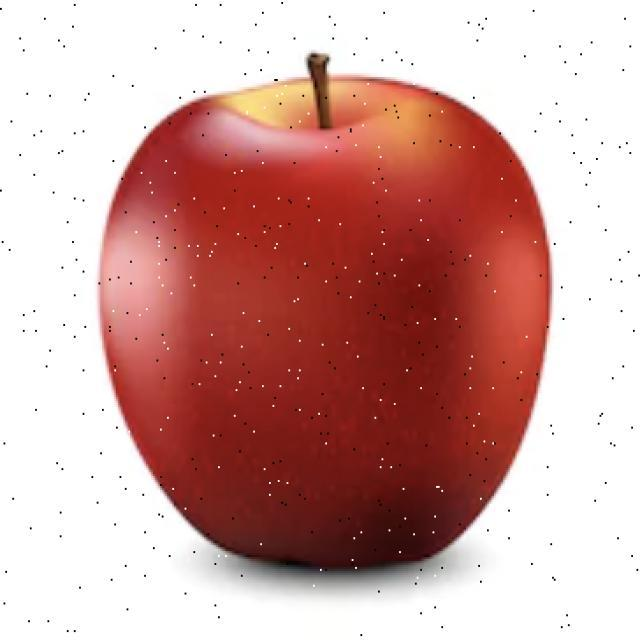Fresh Apple: (107, 70, 533, 570)
